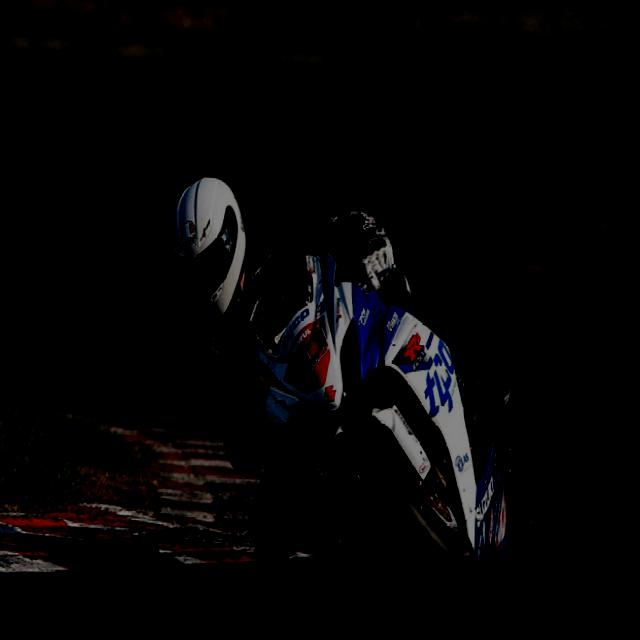Vehicle: (240, 249, 554, 599)
